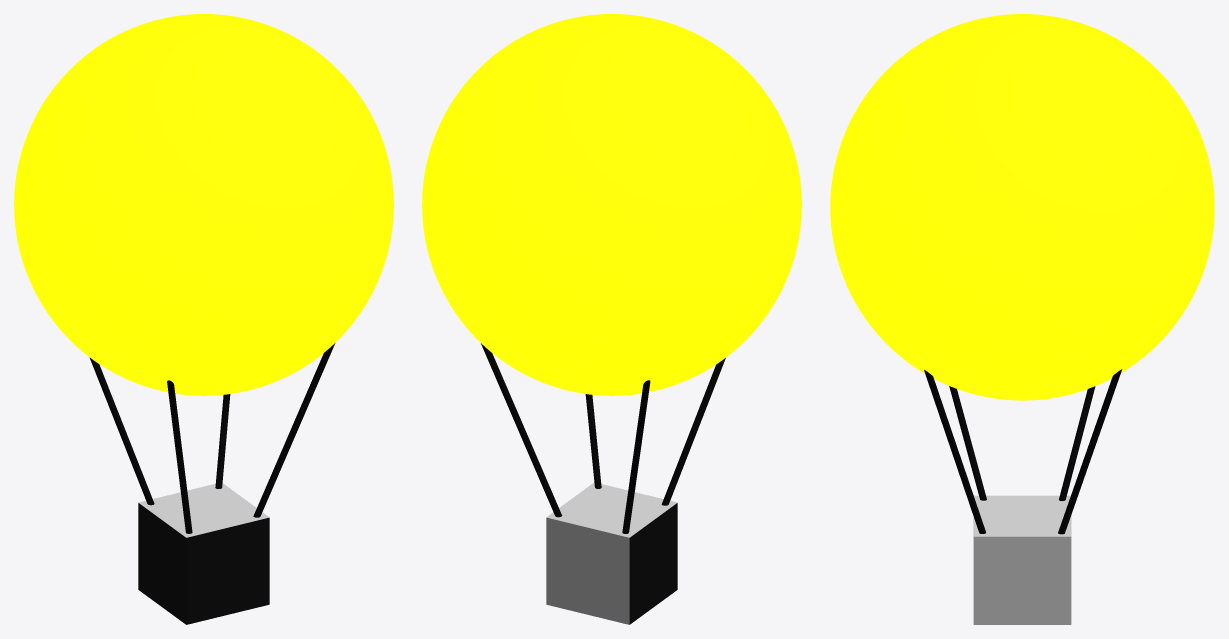
File: balloon_1.glb
3 renders of one model, left to right at view 1: azimuth 30°, elevation 25°; view 2: azimuth 150°, elevation 25°; view 3: azimuth 270°, elevation 25°, orthographic.
Visible parts, largest first — view 1: 球体, 立方体, 柱体.001, 柱体.003, 柱体.002, 柱体.004; view 2: 球体, 立方体, 柱体.004, 柱体.002, 柱体.003, 柱体.001; view 3: 球体, 立方体, 柱体.004, 柱体.001, 柱体.002, 柱体.003.
Boxes of the visible parts, left/top/right/bottom form: 球体: left=14, top=14, right=393, bottom=395; 立方体: left=138, top=483, right=269, bottom=624; 柱体.001: left=253, top=343, right=335, bottom=517; 柱体.003: left=89, top=357, right=154, bottom=505; 柱体.002: left=167, top=380, right=192, bottom=533; 柱体.004: left=215, top=394, right=230, bottom=488; 球体: left=422, top=14, right=801, bottom=395; 立方体: left=546, top=482, right=677, bottom=624; 柱体.004: left=481, top=343, right=562, bottom=517; 柱体.002: left=661, top=358, right=725, bottom=505; 柱体.003: left=622, top=380, right=650, bottom=533; 柱体.001: left=585, top=394, right=601, bottom=488; 球体: left=830, top=14, right=1214, bottom=400; 立方体: left=973, top=495, right=1071, bottom=624; 柱体.004: left=1058, top=369, right=1121, bottom=534; 柱体.001: left=924, top=370, right=985, bottom=533; 柱体.002: left=949, top=386, right=986, bottom=500; 柱体.003: left=1059, top=386, right=1095, bottom=500.
Bounding box in the file's own units: 7.9 × 12.99 × 7.9.
Materials: 4 (1 with a texture image).
